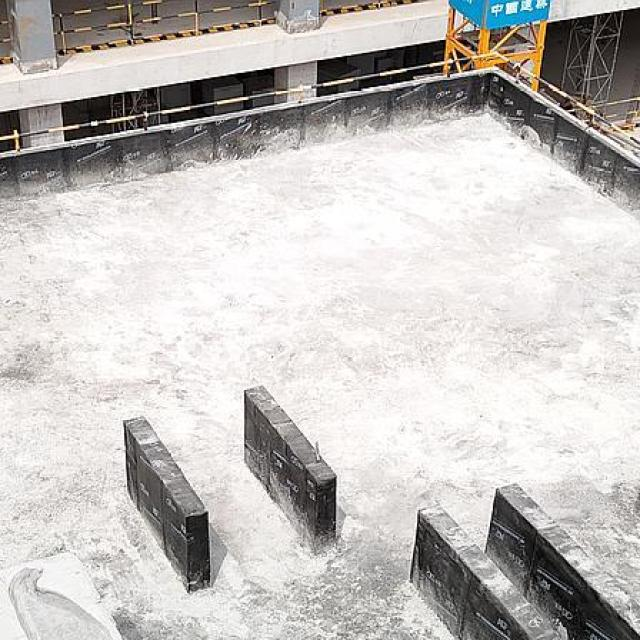edge_guardrail: (0, 52, 640, 152), (52, 0, 278, 57), (591, 96, 640, 128), (0, 20, 16, 61)
